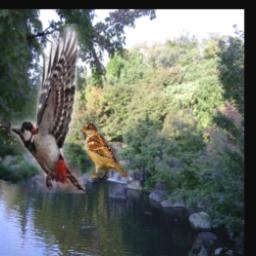Sparrow: (79, 122, 129, 179)
Woodpecker: (11, 25, 85, 194)
